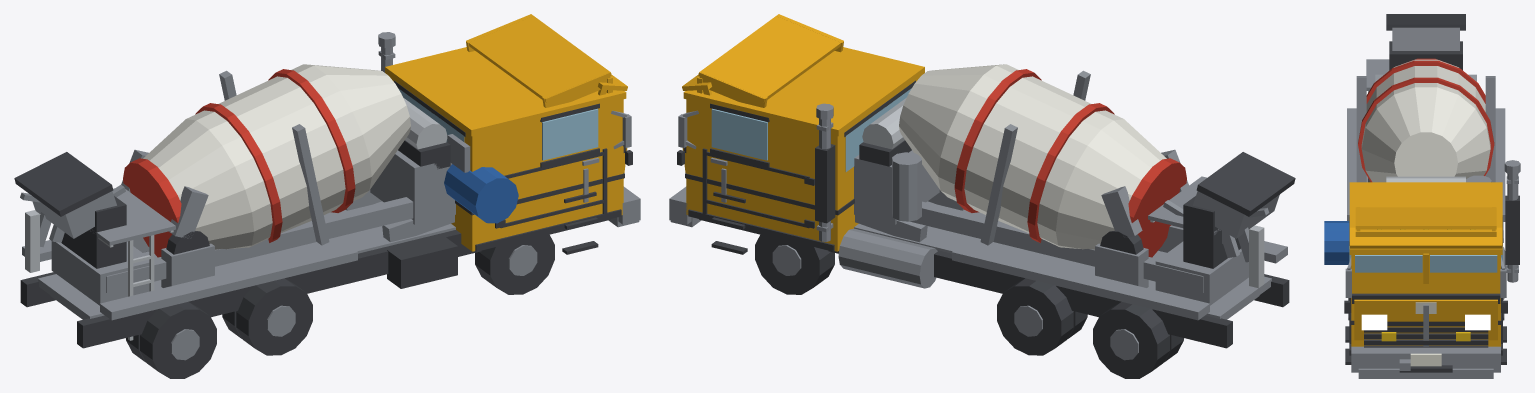
File: mixer_truck.glb
The picture shows the model from 3 angles, left to right: view 1: azimuth 30°, elevation 25°; view 2: azimuth 150°, elevation 25°; view 3: azimuth 270°, elevation 25°; orthographic projection. The views are drawn at different scales.
Visible parts, largest first — view 1: MixerTruck_Base, Mixer_Drum; view 2: MixerTruck_Base, Mixer_Drum; view 3: MixerTruck_Base, Mixer_Drum.
Boxes of the visible parts, left/top/right/bottom form: MixerTruck_Base: left=14, top=14, right=640, bottom=378; Mixer_Drum: left=123, top=64, right=410, bottom=257; MixerTruck_Base: left=669, top=14, right=1295, bottom=378; Mixer_Drum: left=899, top=64, right=1186, bottom=257; MixerTruck_Base: left=1324, top=14, right=1520, bottom=378; Mixer_Drum: left=1356, top=58, right=1495, bottom=182.
Size of the model in its own units: 9.57 by 3.72 by 3.2.
